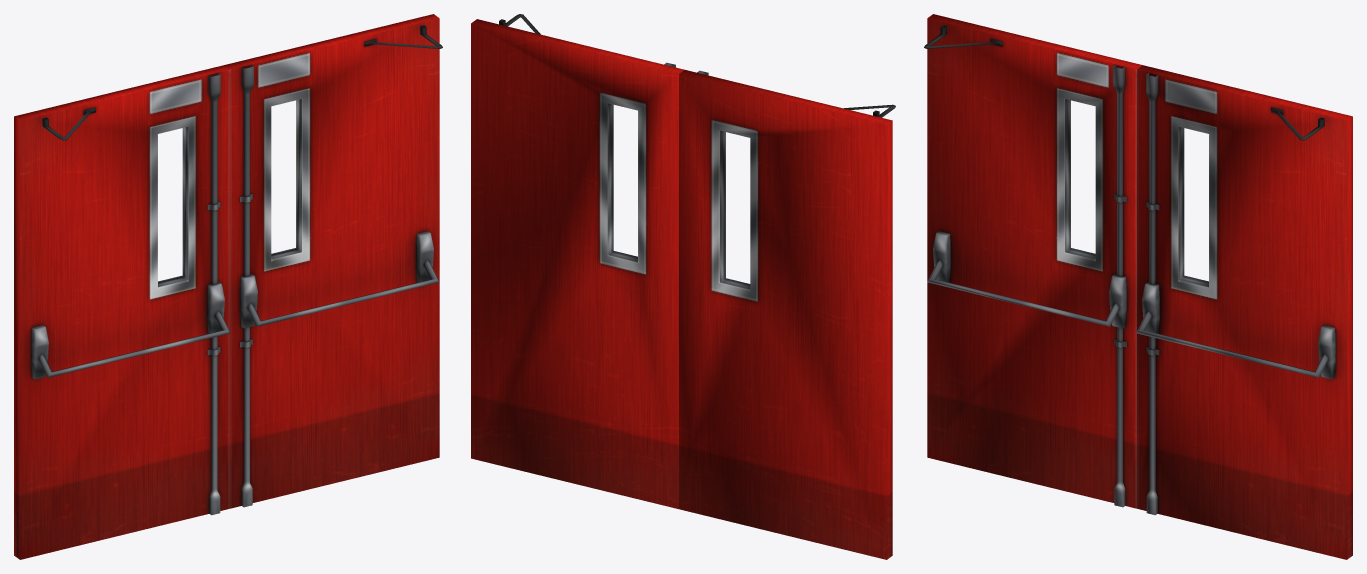
File: gym_door.fbx
3 renders of one model, left to right at view 1: azimuth 30°, elevation 25°; view 2: azimuth 150°, elevation 25°; view 3: azimuth 330°, elevation 25°, orthographic.
Visible parts, largest first — view 1: Cube, Cube_001; view 2: Cube, Cube_001; view 3: Cube_001, Cube.
Part boxes in pixels (left/top/right/bottom): Cube: left=14, top=65, right=230, bottom=559; Cube_001: left=224, top=14, right=442, bottom=508; Cube: left=679, top=70, right=895, bottom=559; Cube_001: left=471, top=14, right=684, bottom=509; Cube_001: left=1136, top=65, right=1352, bottom=559; Cube: left=924, top=14, right=1142, bottom=508.
Bounding box in the file's own units: 4 × 4 × 0.4881.
